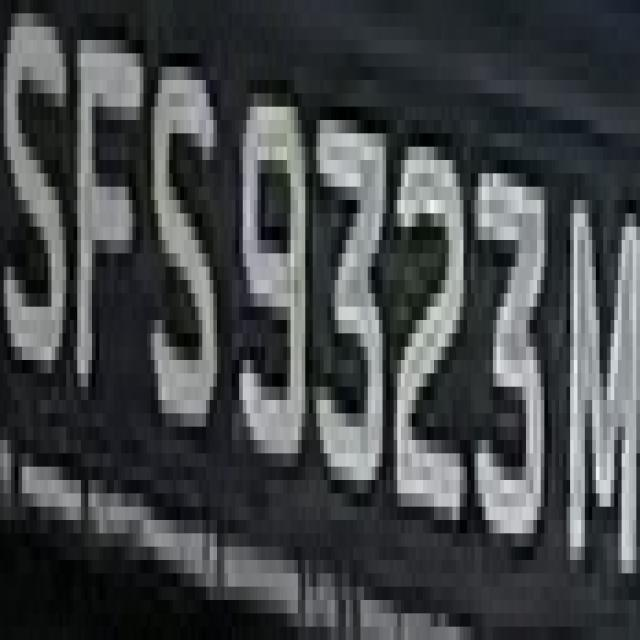2: (379, 107, 478, 533)
3: (463, 93, 552, 560), (305, 80, 390, 533)
9: (232, 54, 316, 534)
F: (81, 26, 158, 426)
M: (555, 107, 640, 600)
S: (147, 40, 228, 480), (0, 13, 70, 387)
